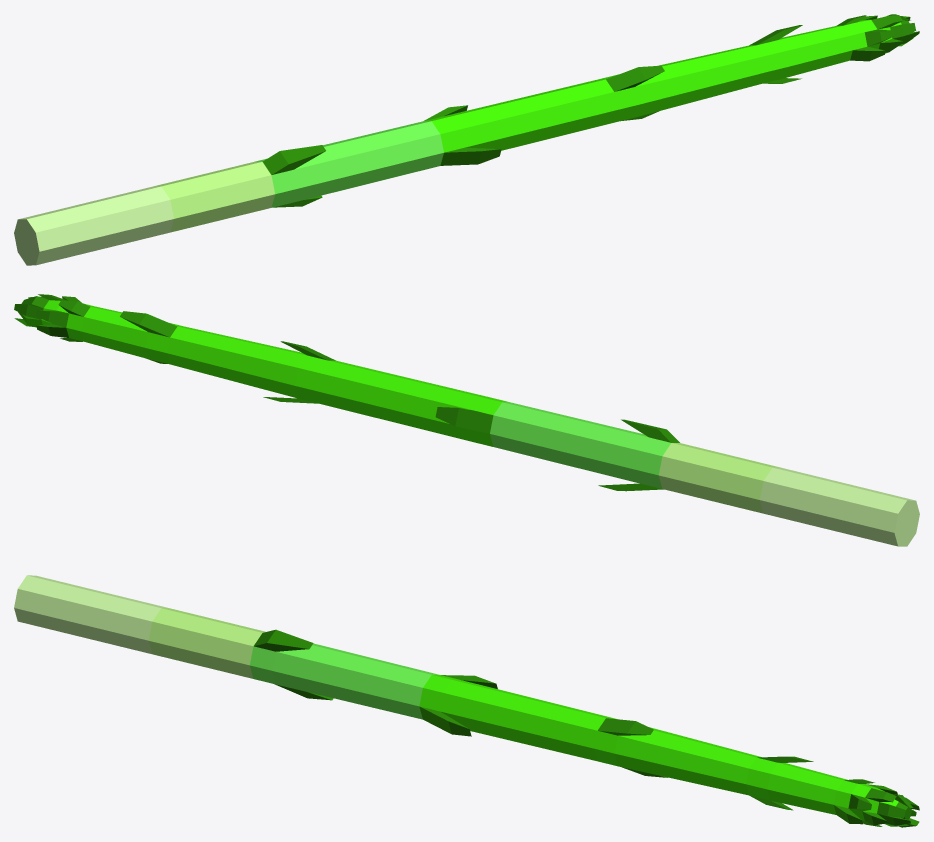
The model's file is asparagus01.obj.
The picture shows the model from 3 angles, top to bottom: view 1: azimuth 30°, elevation 25°; view 2: azimuth 150°, elevation 25°; view 3: azimuth 330°, elevation 25°; orthographic projection.
Parts seen in each view (by area): view 1: Cylinder; view 2: Cylinder; view 3: Cylinder.
Part boxes in pixels (x1,y1,x2,y2): Cylinder: (14,14,919,265); Cylinder: (14,294,919,546); Cylinder: (14,575,919,827).
Bounding box in the file's own units: 0.2082 × 0.0146 × 0.0137.
Materials: 1 (1 with a texture image).
